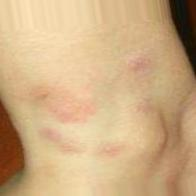Fleas: (50, 99, 95, 123), (126, 49, 152, 74), (37, 125, 62, 144), (97, 143, 127, 156), (30, 87, 48, 99), (134, 101, 150, 113), (62, 142, 79, 153)
